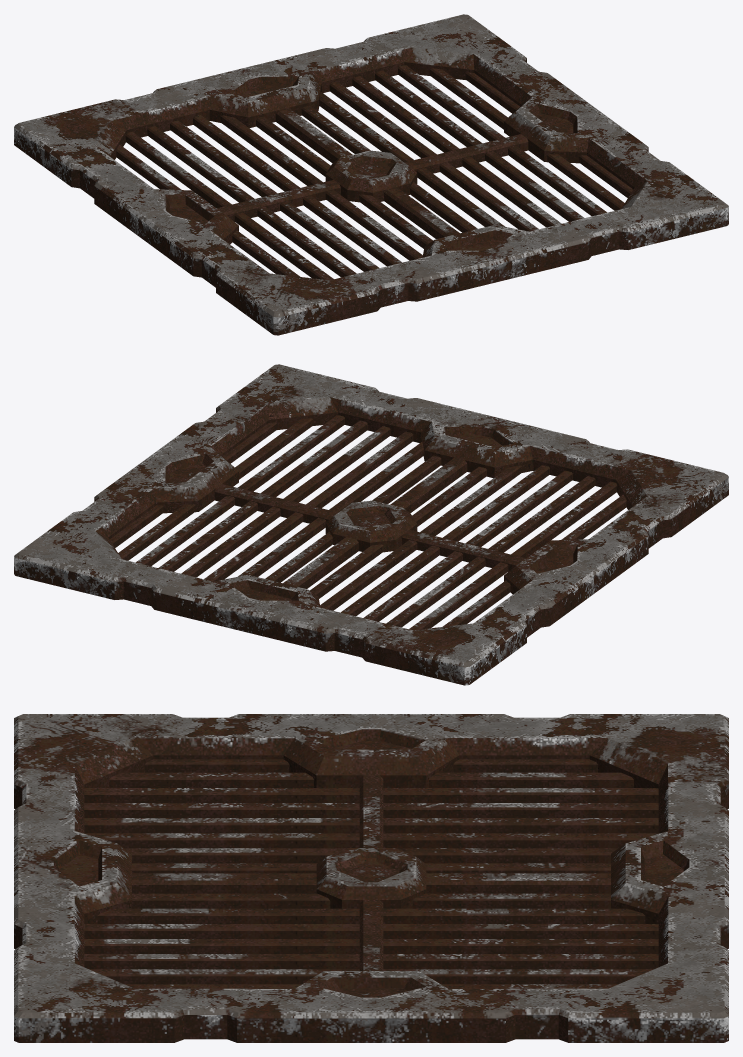
The model's file is grate.glb.
3 renders of one model, top to bottom at view 1: azimuth 30°, elevation 25°; view 2: azimuth 150°, elevation 25°; view 3: azimuth 270°, elevation 25°, orthographic. The views are drawn at different scales.
Parts seen in each view (by area): view 1: Plane_0; view 2: Plane_0; view 3: Plane_0.
Boxes of the visible parts, x1,y1,x2,y2 form: Plane_0: (14,14,728,335); Plane_0: (14,364,728,685); Plane_0: (14,714,728,1042).
Bounding box in the file's own units: 2 × 0.0876 × 2.
Materials: 1 (1 with a texture image).
